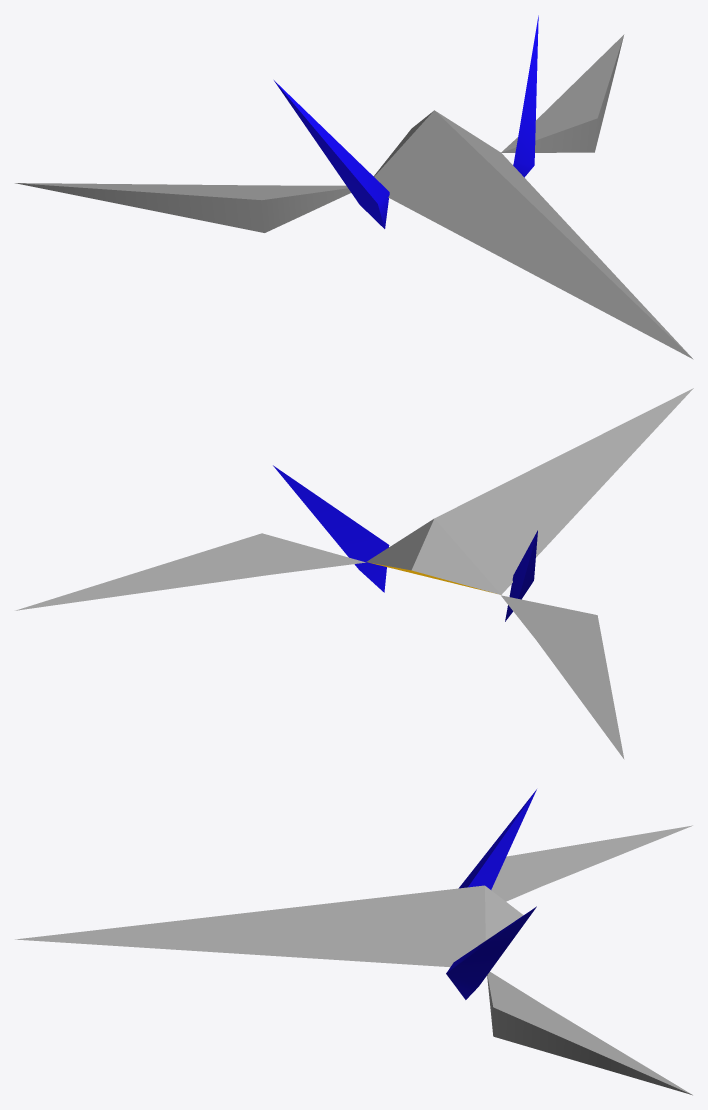
File: Starfox.fbx
3 views of the same model, one above another, from view 1: azimuth 30°, elevation 25°; view 2: azimuth 150°, elevation 25°; view 3: azimuth 270°, elevation 25° (orthographic). The views are drawn at different scales.
Parts seen in each view (by area): view 1: Box001; view 2: Box001; view 3: Box001.
Part boxes in pixels (x1=…): Box001: x1=15, y1=15, x2=693, y2=359; Box001: x1=15, y1=388, x2=693, y2=759; Box001: x1=15, y1=789, x2=692, y2=1095.
Size of the model in its own units: 677 by 148 by 720.
